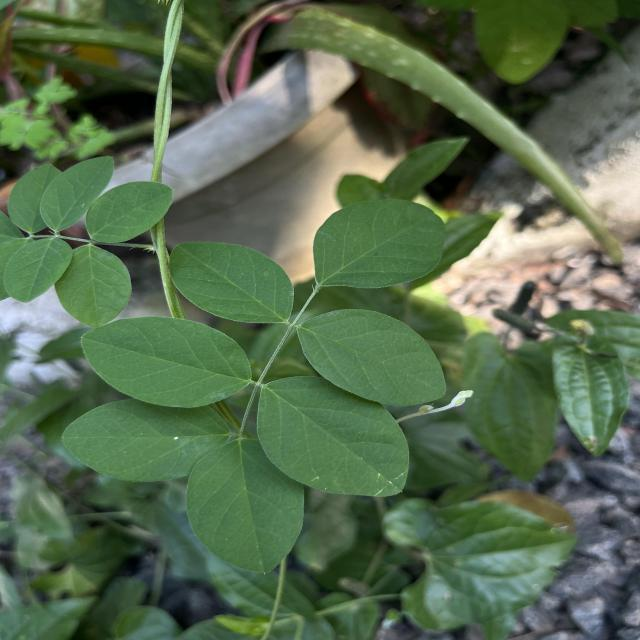Clitoria ternatea: (254, 375, 412, 498), (186, 437, 306, 575), (80, 315, 254, 409), (297, 308, 448, 408), (60, 396, 235, 482), (311, 198, 447, 290), (168, 240, 296, 325)
